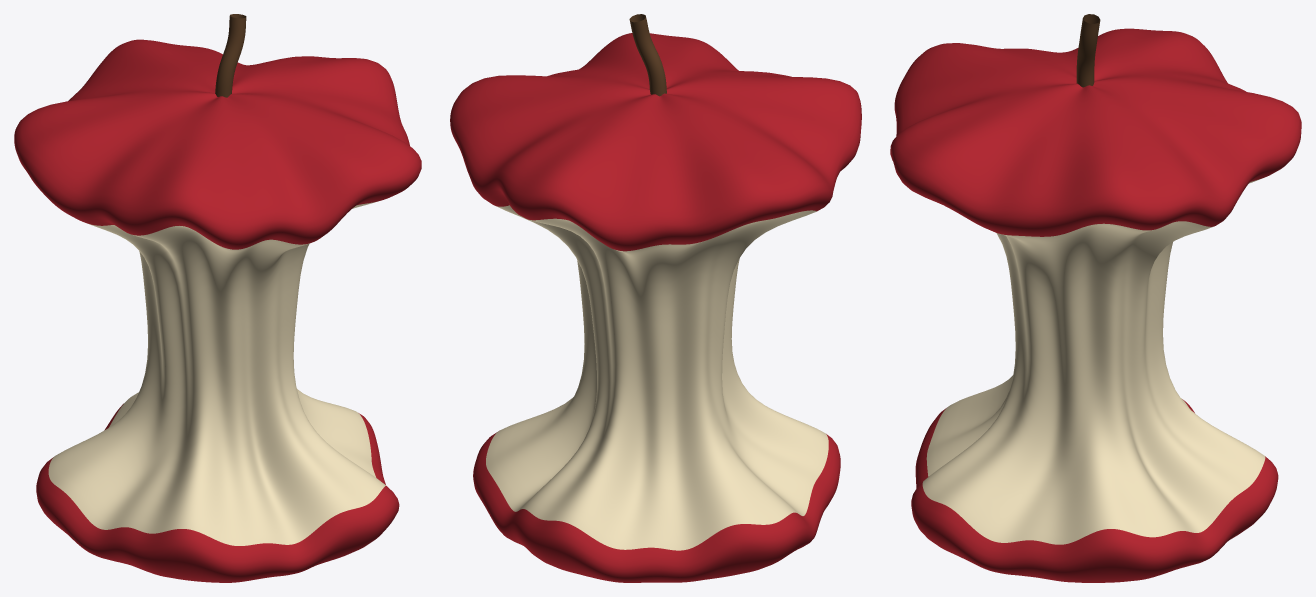
The model's file is AppleCore.fbx.
3 renders of one model, left to right at view 1: azimuth 30°, elevation 25°; view 2: azimuth 150°, elevation 25°; view 3: azimuth 270°, elevation 25°, orthographic. The views are drawn at different scales.
Visible parts, largest first — view 1: Apple core, Stem; view 2: Apple core, Stem; view 3: Apple core, Stem.
Boxes of the visible parts, <box> form: Apple core: <box>14,39,421,582</box>; Stem: <box>215,14,246,97</box>; Apple core: <box>450,33,861,582</box>; Stem: <box>629,14,666,96</box>; Apple core: <box>890,28,1301,582</box>; Stem: <box>1076,14,1100,87</box>.
Bounding box in the file's own units: 43.11 × 61.17 × 41.86.
